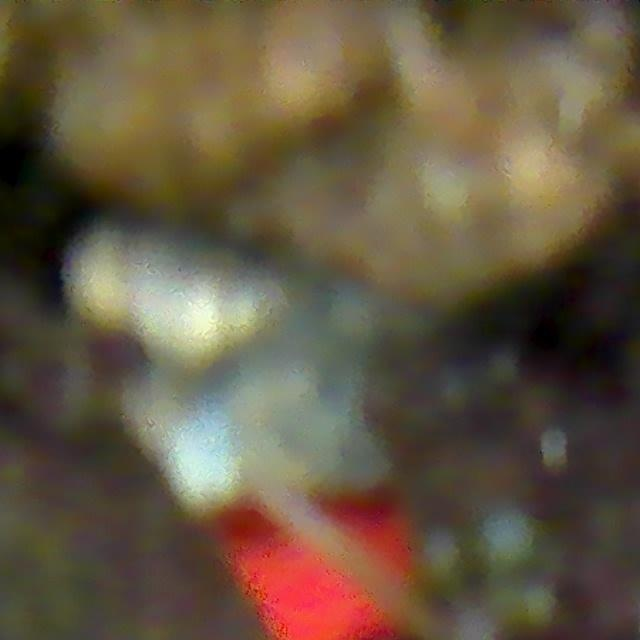SeaGrape: (478, 506, 539, 570)
